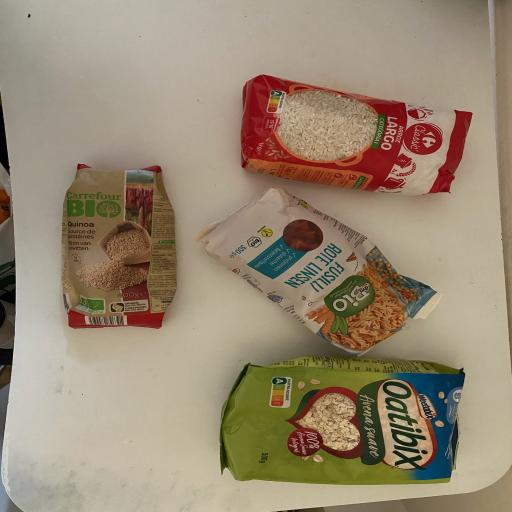oat: (216, 356, 470, 489)
quinoa: (58, 158, 179, 334)
rice: (238, 72, 476, 200)
